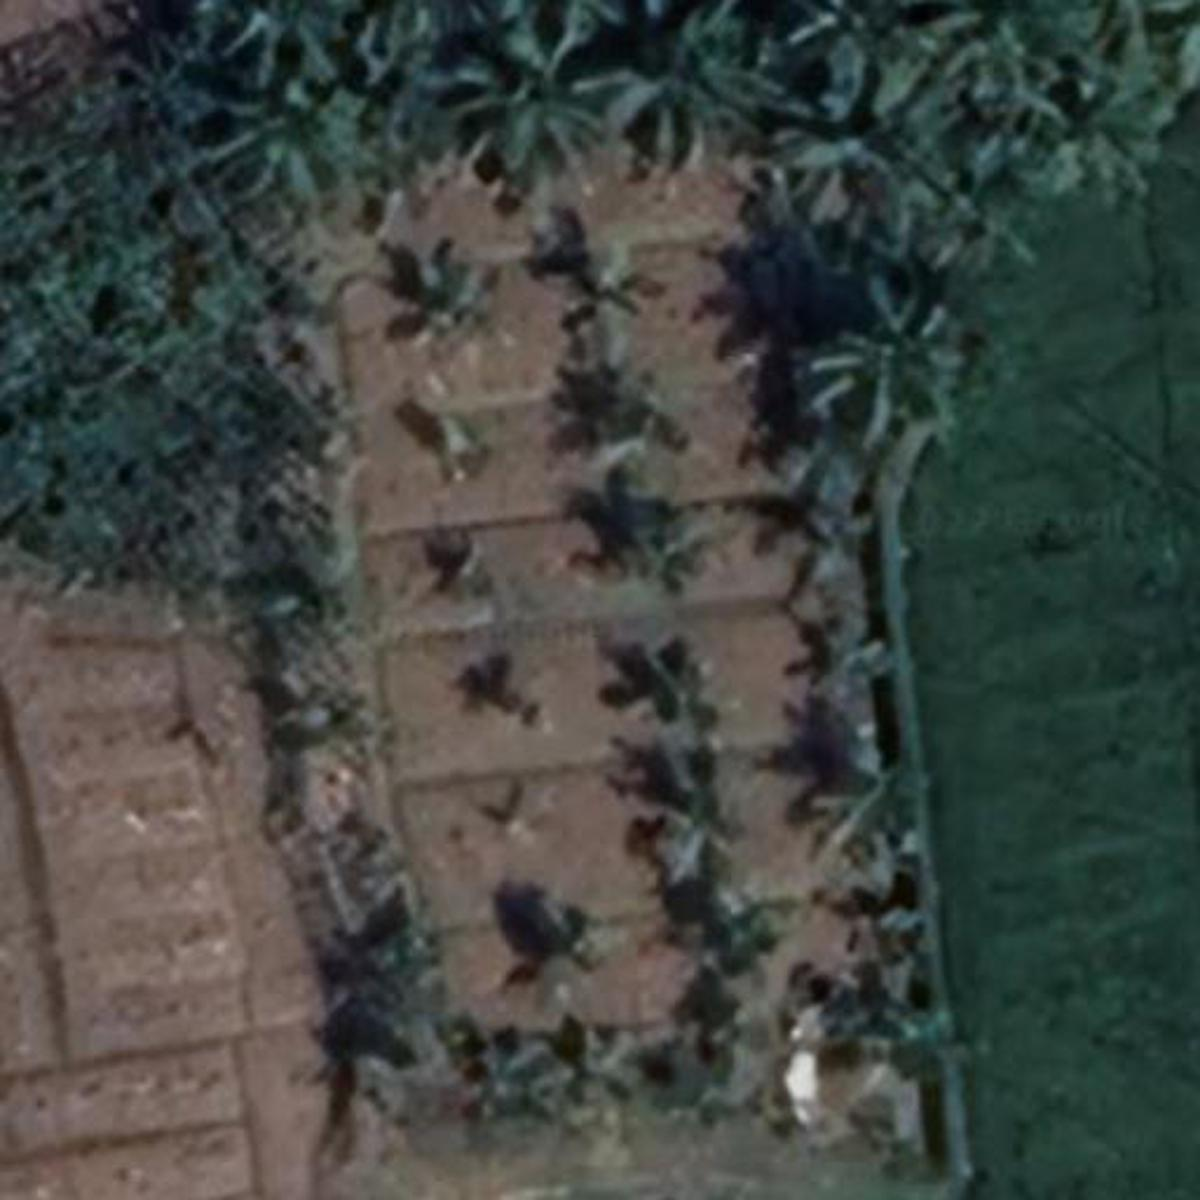coconut: (567, 4, 795, 187), (440, 9, 632, 182), (789, 284, 979, 457), (210, 86, 384, 208), (792, 747, 925, 878), (216, 7, 389, 105), (1054, 63, 1169, 203), (567, 391, 703, 503), (780, 492, 895, 625), (553, 251, 684, 365), (576, 508, 719, 607), (391, 251, 508, 367), (927, 166, 1040, 284), (438, 1038, 564, 1138), (567, 1010, 663, 1134), (799, 627, 897, 727)
